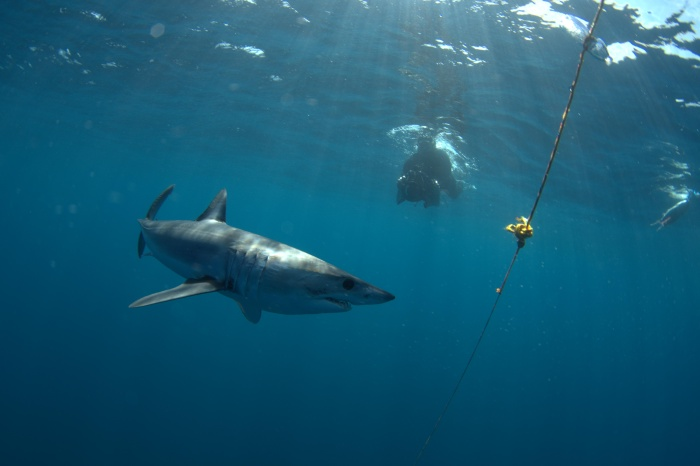Mako: (109, 175, 405, 342)
